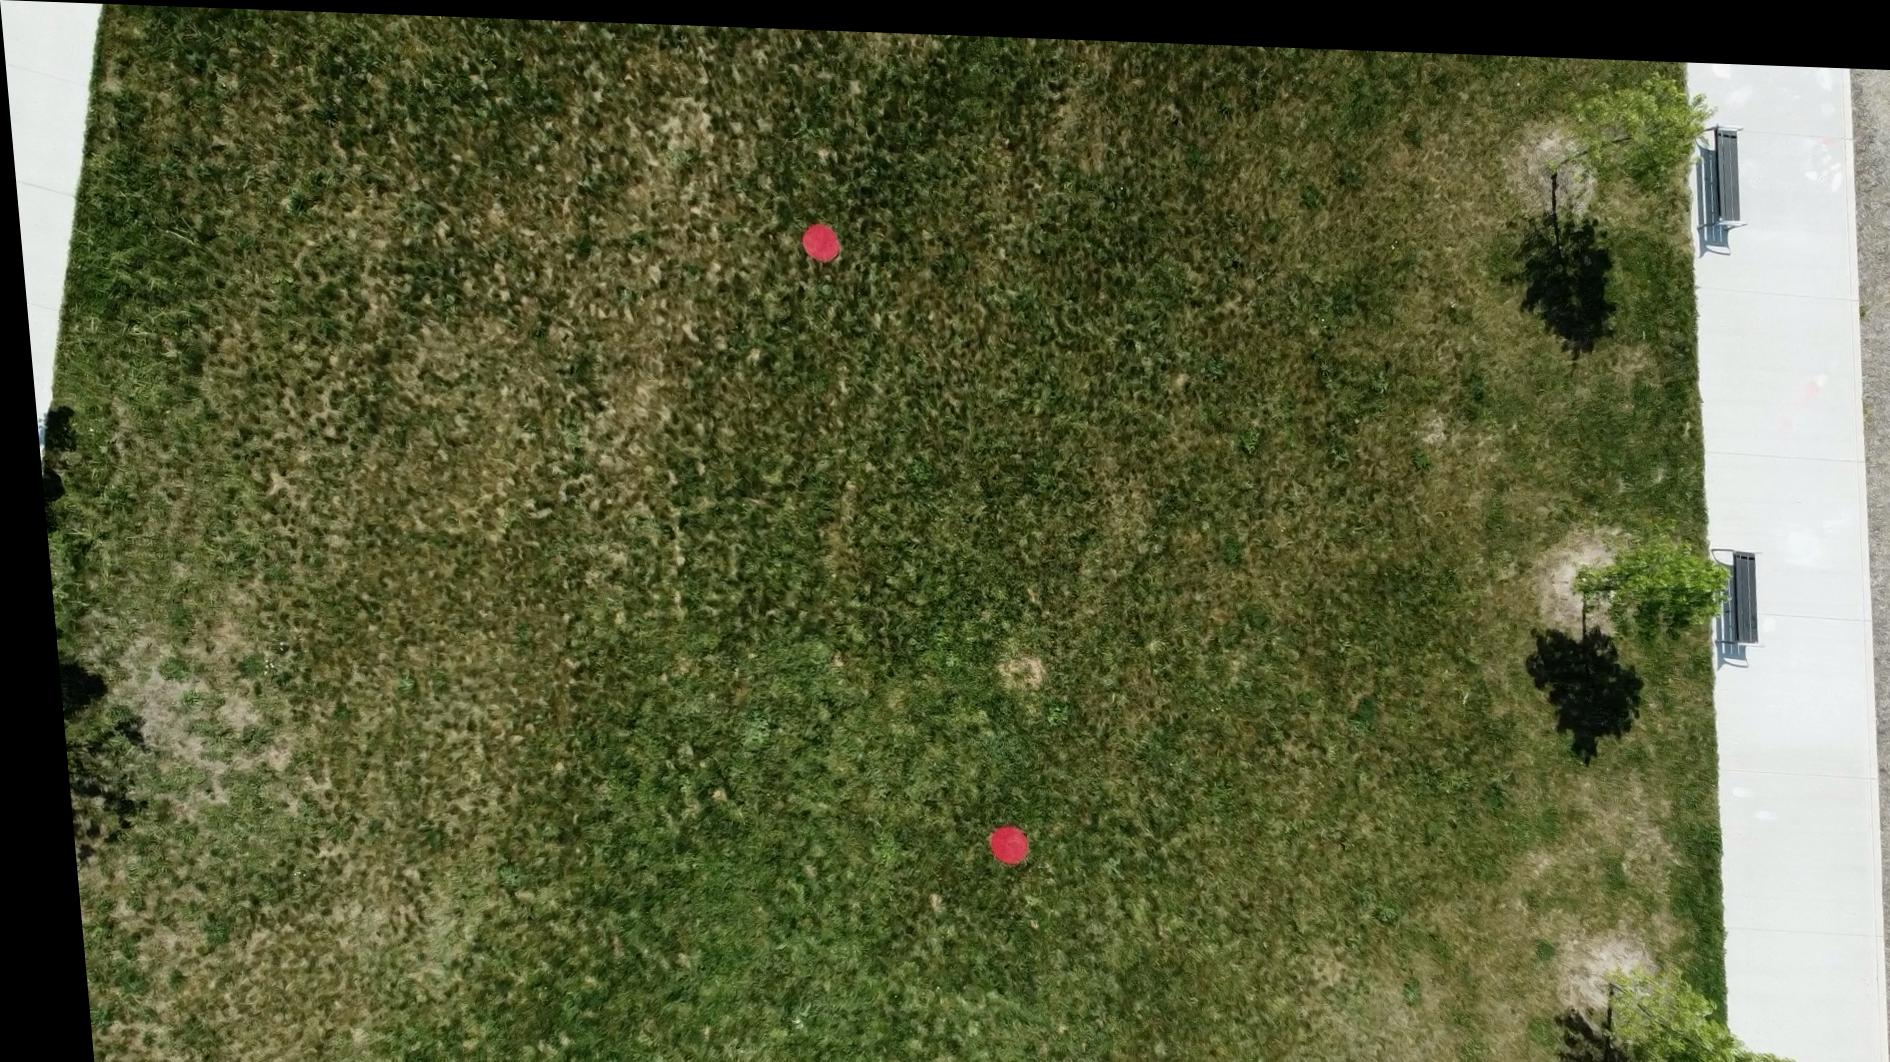Red: (970, 815, 1018, 861), (793, 216, 840, 260)
